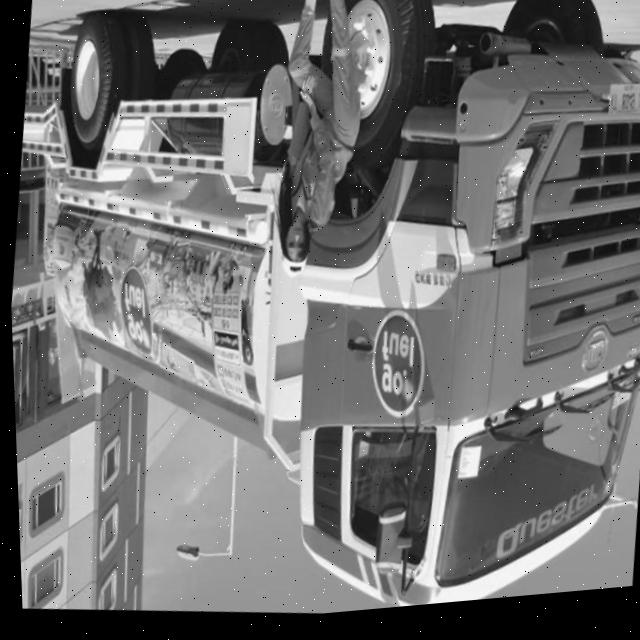truck: (253, 4, 640, 623)
